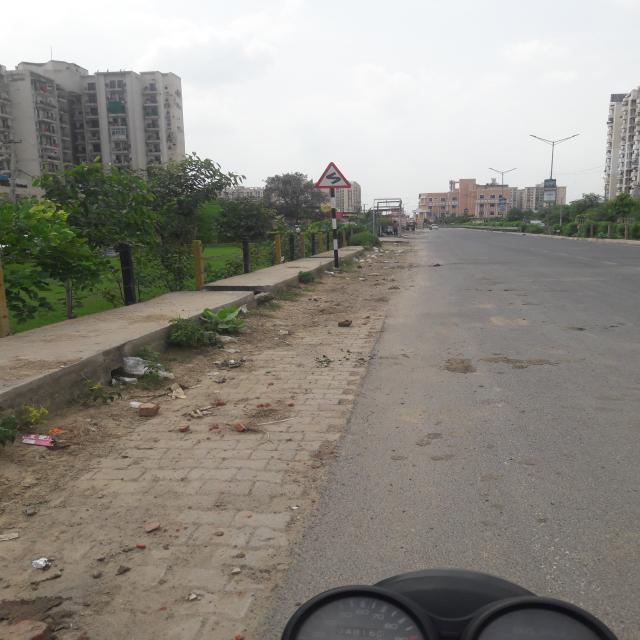left reverse bend: (314, 162, 352, 188)
